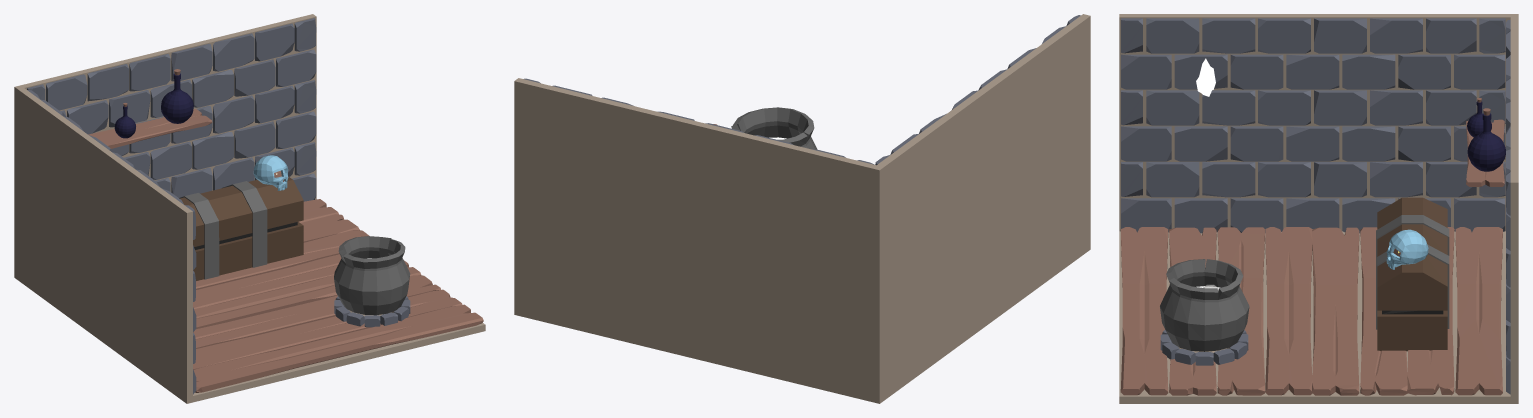
The model's file is witches_cauldron_diorama_unwrapping.glb.
The picture shows the model from 3 angles, left to right: view 1: azimuth 30°, elevation 25°; view 2: azimuth 150°, elevation 25°; view 3: azimuth 270°, elevation 25°; orthographic projection. The views are drawn at different scales.
Parts seen in each view (by area): view 1: floor and walls, brick wall, planks, chest, cauldron, chest bands, SHELF, stones around fireplace, bottle, brick wall.001, Roundcube, bottle small; view 2: floor and walls, cauldron, brick wall.001; view 3: brick wall.001, planks, floor and walls, chest, cauldron, brick wall, chest bands, stones around fireplace, bottle, Roundcube, SHELF, flame mesh - iconosphere (+1 smaller).
Part boxes in pixels (left/top/right/bottom): floor and walls: left=14, top=14, right=485, bottom=403; brick wall: left=27, top=18, right=316, bottom=201; planks: left=193, top=199, right=483, bottom=392; chest: left=180, top=176, right=303, bottom=280; cauldron: left=334, top=236, right=410, bottom=315; chest bands: left=179, top=181, right=267, bottom=279; SHELF: left=88, top=109, right=212, bottom=148; stones around fireplace: left=334, top=296, right=410, bottom=327; bottle: left=161, top=73, right=193, bottom=123; brick wall.001: left=27, top=90, right=196, bottom=394; Roundcube: left=253, top=155, right=288, bottom=190; bottle small: left=114, top=105, right=135, bottom=138; floor and walls: left=514, top=14, right=1090, bottom=403; cauldron: left=731, top=107, right=817, bottom=149; brick wall.001: left=875, top=15, right=1080, bottom=165; brick wall.001: left=1121, top=18, right=1505, bottom=233; planks: left=1120, top=227, right=1502, bottom=395; floor and walls: left=1119, top=14, right=1518, bottom=403; chest: left=1377, top=197, right=1447, bottom=351; cauldron: left=1160, top=259, right=1249, bottom=351; brick wall: left=1506, top=20, right=1510, bottom=394; chest bands: left=1376, top=215, right=1449, bottom=329; stones around fireplace: left=1160, top=330, right=1248, bottom=365; bottle: left=1467, top=113, right=1505, bottom=171; Roundcube: left=1386, top=229, right=1428, bottom=269; SHELF: left=1466, top=119, right=1504, bottom=186; flame mesh - iconosphere: left=1196, top=58, right=1215, bottom=96.
Size of what is drawn, in the model's own units: 8.25 by 5.04 by 8.25.
